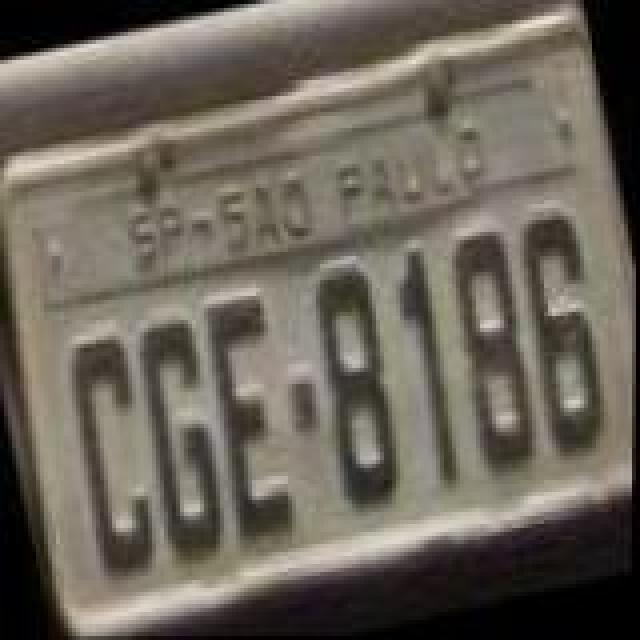1: (382, 240, 474, 488)
6: (504, 206, 624, 462)
8: (298, 262, 418, 514), (432, 228, 552, 480)
C: (52, 332, 172, 584)
E: (192, 294, 316, 550)
G: (120, 312, 240, 568)
